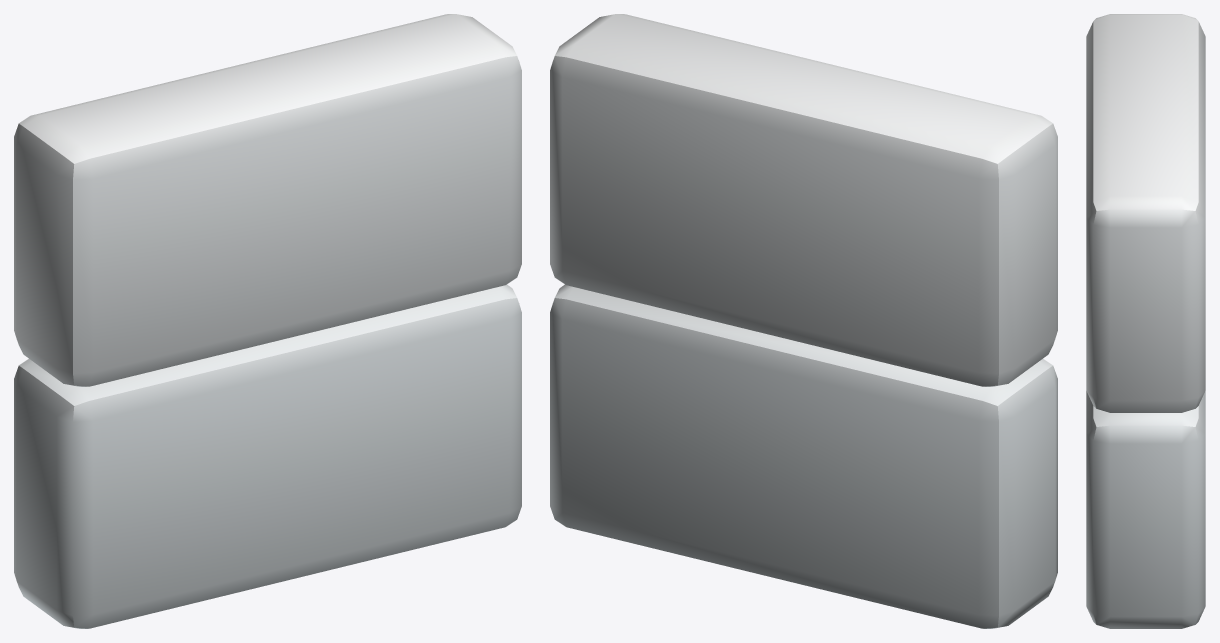
Rendered from barrier_4x1x4.glb.
3 renders of one model, left to right at view 1: azimuth 30°, elevation 25°; view 2: azimuth 150°, elevation 25°; view 3: azimuth 270°, elevation 25°, orthographic. The views are drawn at different scales.
Parts seen in each view (by area): view 1: barrier_4x1x4; view 2: barrier_4x1x4; view 3: barrier_4x1x4.
Part boxes in pixels (<box>): barrier_4x1x4: <box>14,14,521,628</box>; barrier_4x1x4: <box>550,14,1057,628</box>; barrier_4x1x4: <box>1086,14,1205,628</box>.
Bounding box in the file's own units: 4 × 4 × 1.
Materials: 1 (1 with a texture image).
